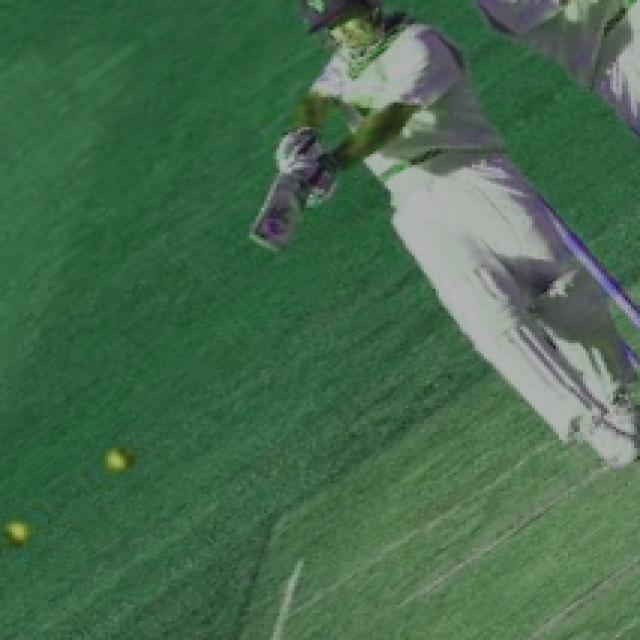toe: (249, 228, 291, 256)
